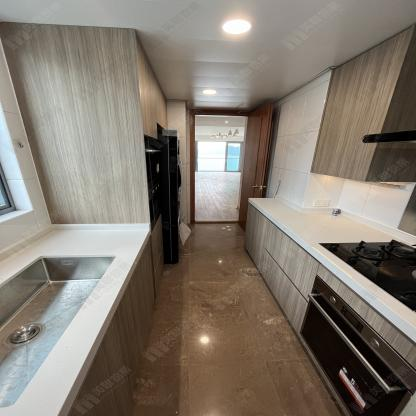Cupboard: (68, 217, 163, 414), (247, 201, 320, 332)
Exhaust Hood: (363, 130, 416, 143)
Oven: (298, 277, 416, 414)
Sink: (0, 253, 116, 408)
Stove: (320, 238, 416, 314)
